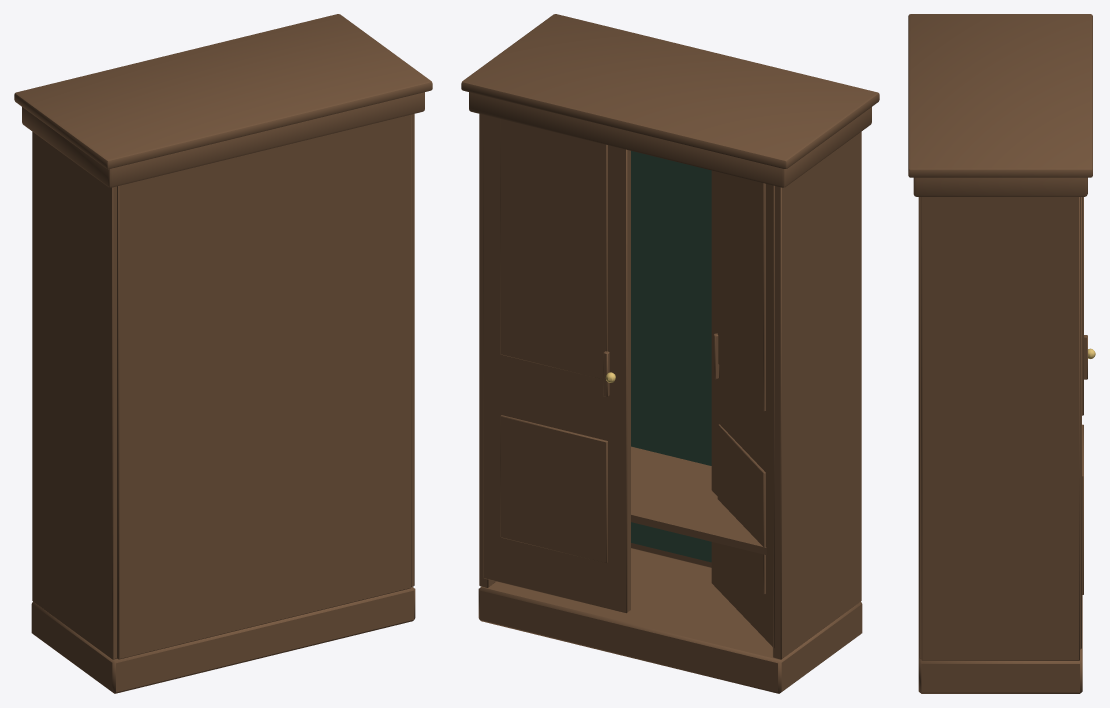
Rendered from arr_armadio.fbx.
The picture shows the model from 3 angles, left to right: view 1: azimuth 30°, elevation 25°; view 2: azimuth 150°, elevation 25°; view 3: azimuth 270°, elevation 25°; orthographic projection.
Visible parts, largest first — view 1: arr_armadio_noce; view 2: arr_armadio_noce, arr_armadio_fondo; view 3: arr_armadio_noce.
Part boxes in pixels (left/top/right/bottom): arr_armadio_noce: left=14, top=14, right=432, bottom=693; arr_armadio_noce: left=461, top=14, right=879, bottom=693; arr_armadio_fondo: left=631, top=151, right=711, bottom=562; arr_armadio_noce: left=908, top=14, right=1092, bottom=693.
Size of the model in its own units: 1.4 by 2.22 by 0.71.
